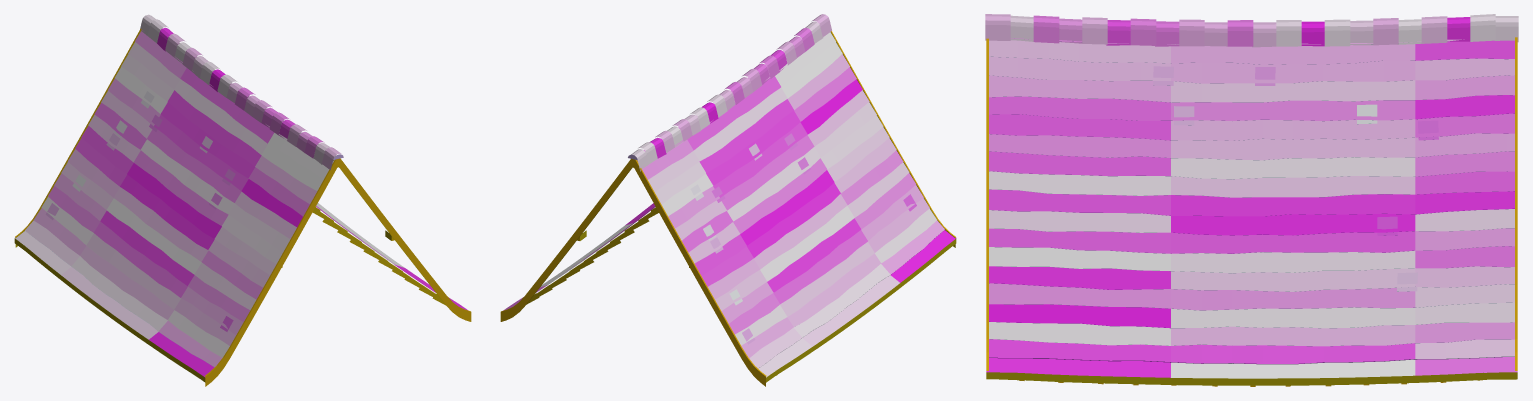
The model's file is roof_p_6x8.glb.
3 renders of one model, left to right at view 1: azimuth 30°, elevation 25°; view 2: azimuth 150°, elevation 25°; view 3: azimuth 270°, elevation 25°, orthographic. The views are drawn at different scales.
Parts seen in each view (by area): view 1: roof_p_6x8; view 2: roof_p_6x8; view 3: roof_p_6x8.
Boxes of the visible parts, <box> form: roof_p_6x8: <box>14,14,471,386</box>; roof_p_6x8: <box>500,14,956,386</box>; roof_p_6x8: <box>985,14,1518,386</box>.
Size of the model in its own units: 7.02 by 5.11 by 8.74.
